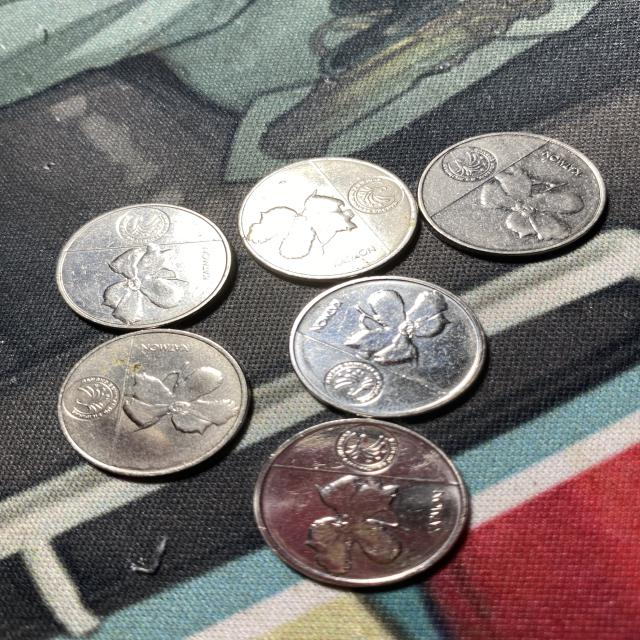25Cent_New_Back: (296, 467, 424, 582), (113, 359, 241, 454), (477, 164, 602, 250), (85, 236, 200, 322), (344, 286, 456, 373)
